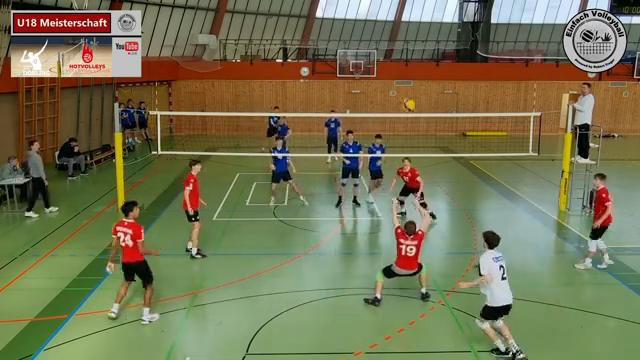Player: (460, 231, 526, 358), (107, 201, 158, 324), (574, 173, 613, 269), (269, 136, 307, 205), (397, 157, 436, 221), (183, 160, 205, 258), (335, 130, 362, 207), (367, 134, 385, 202), (325, 115, 340, 162), (266, 106, 279, 145), (276, 117, 291, 145)
Receive: (365, 198, 436, 309)
ball: (403, 98, 415, 112)
